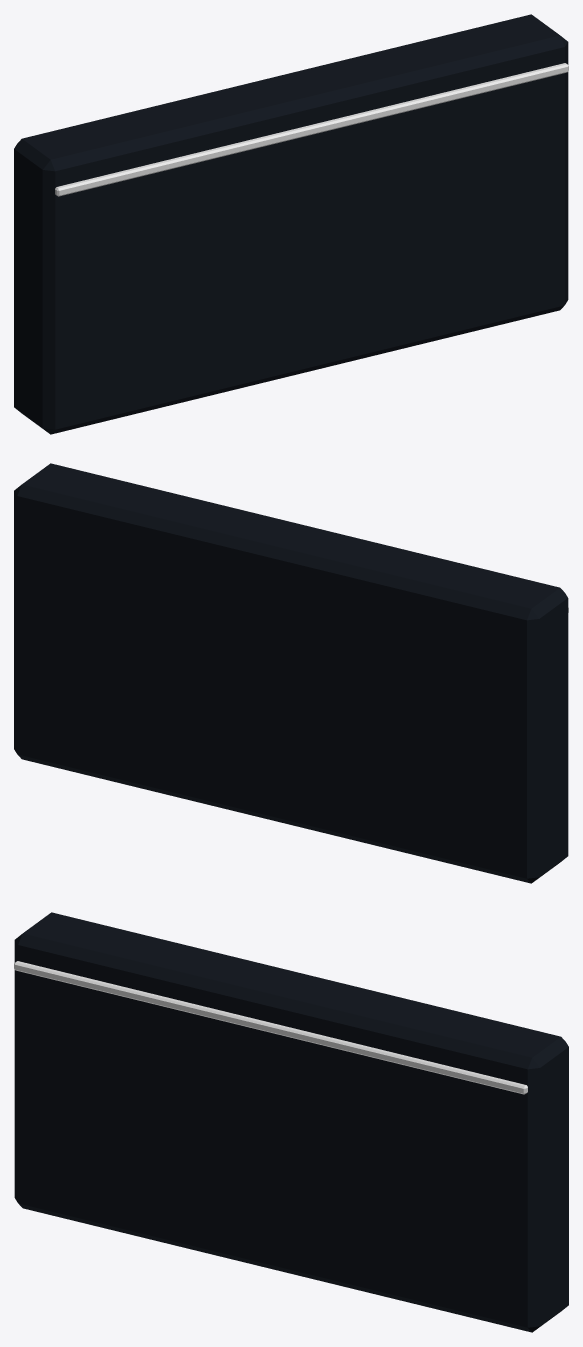
The model's file is Wall.fbx.
The picture shows the model from 3 angles, top to bottom: view 1: azimuth 30°, elevation 25°; view 2: azimuth 150°, elevation 25°; view 3: azimuth 330°, elevation 25°; orthographic projection.
Parts seen in each view (by area): view 1: Wall_Mesh; view 2: Wall_Mesh; view 3: Wall_Mesh.
Part boxes in pixels (x1,y1,x2,y2): Wall_Mesh: [14, 14, 568, 434]; Wall_Mesh: [14, 463, 568, 883]; Wall_Mesh: [14, 912, 568, 1332].
Bounding box in the file's own units: 800 × 400 × 110.
